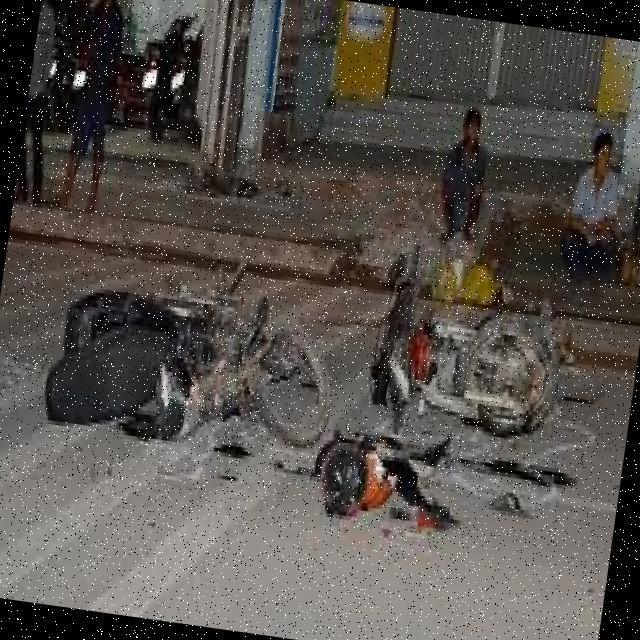accident: (25, 195, 359, 501), (353, 221, 625, 463)
